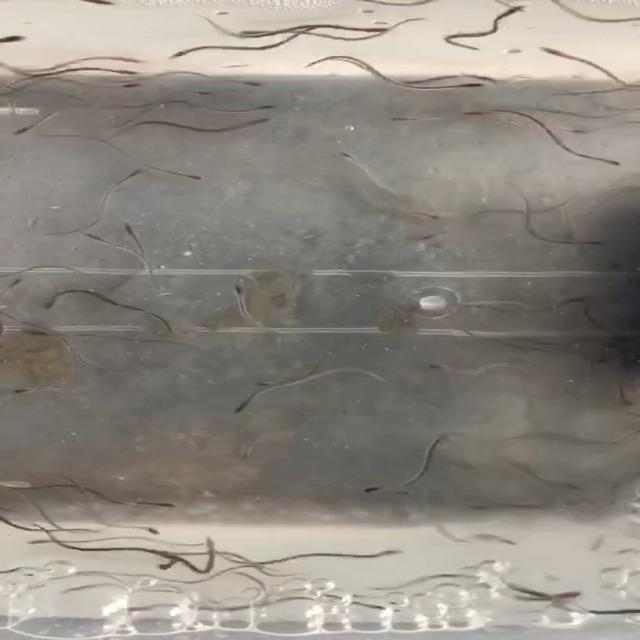active_glass_eel: (106, 518, 168, 539), (61, 226, 111, 252), (220, 276, 263, 306), (524, 588, 582, 610), (394, 228, 454, 249), (126, 497, 185, 518), (379, 105, 443, 124), (355, 542, 413, 562), (231, 437, 269, 467), (425, 358, 479, 378), (597, 600, 640, 625), (41, 286, 74, 318), (398, 202, 446, 223), (0, 383, 53, 402), (591, 152, 634, 175), (321, 146, 367, 166), (10, 113, 48, 137), (223, 21, 280, 37), (527, 45, 575, 64), (223, 396, 264, 418), (13, 324, 58, 344), (548, 294, 604, 310), (159, 41, 203, 61), (353, 480, 396, 500), (548, 218, 582, 243), (241, 98, 288, 116), (550, 119, 597, 137), (487, 2, 531, 21), (456, 102, 502, 120), (88, 62, 139, 78), (26, 534, 76, 550), (361, 598, 403, 617), (575, 233, 618, 251), (171, 83, 218, 99), (97, 78, 143, 94), (223, 74, 271, 89), (112, 168, 159, 183), (112, 222, 151, 240), (344, 22, 394, 36), (116, 600, 161, 615), (0, 270, 30, 291), (169, 166, 206, 182), (443, 80, 489, 92), (0, 28, 26, 46)
